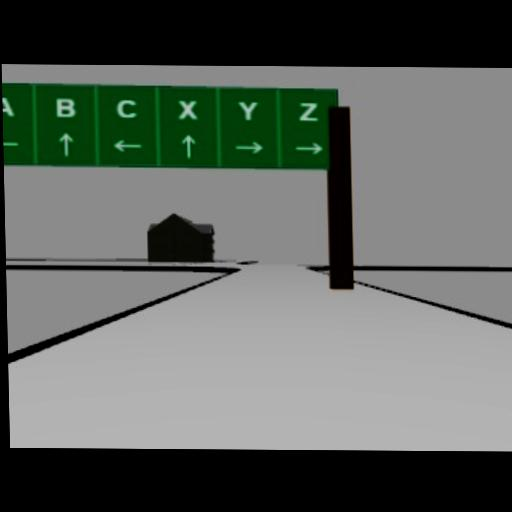A: (2, 95, 15, 116)
B: (55, 96, 76, 117)
C: (116, 98, 137, 117)
Left: (112, 138, 142, 152), (3, 140, 19, 146)
Right: (234, 141, 264, 154), (295, 142, 324, 155)
Straight: (57, 131, 73, 156), (181, 132, 195, 158)
X: (177, 99, 200, 120)
Y: (238, 99, 259, 120)
Z: (297, 102, 320, 121)
